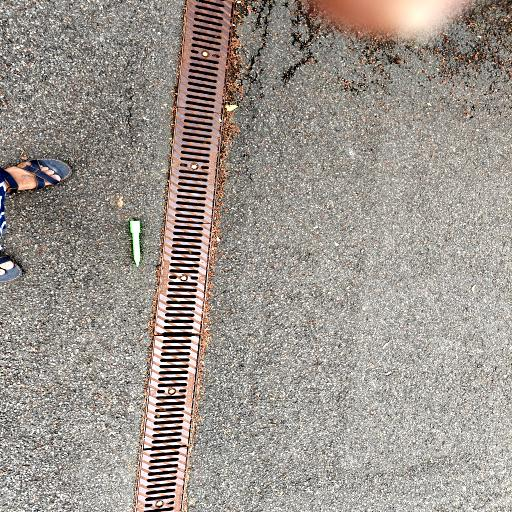Probe-Detection: (130, 221, 140, 266)
